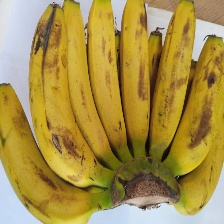banana: (1, 48, 195, 189)
